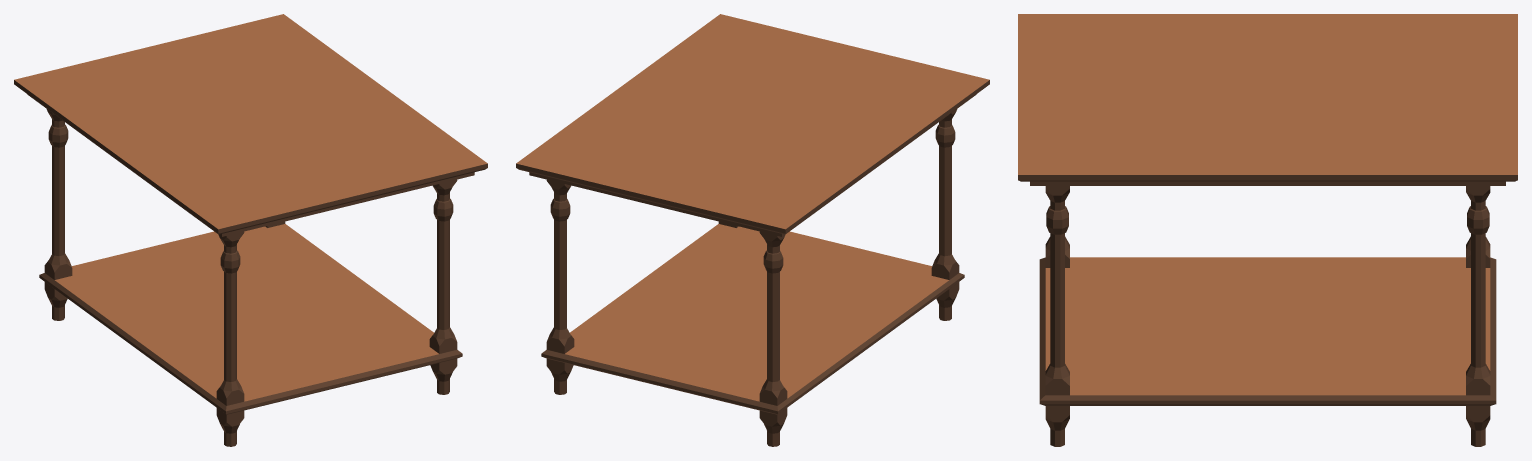
Rendered from 70sTVStand.fbx.
The picture shows the model from 3 angles, left to right: view 1: azimuth 30°, elevation 25°; view 2: azimuth 150°, elevation 25°; view 3: azimuth 270°, elevation 25°; orthographic projection. The views are drawn at different scales.
Visible parts, largest first — view 1: TV Stand; view 2: TV Stand; view 3: TV Stand.
Part boxes in pixels (left/top/right/bottom): TV Stand: left=14, top=14, right=487, bottom=446; TV Stand: left=516, top=14, right=989, bottom=446; TV Stand: left=1018, top=14, right=1517, bottom=446.
Bounding box in the file's own units: 64 × 53 × 84.
